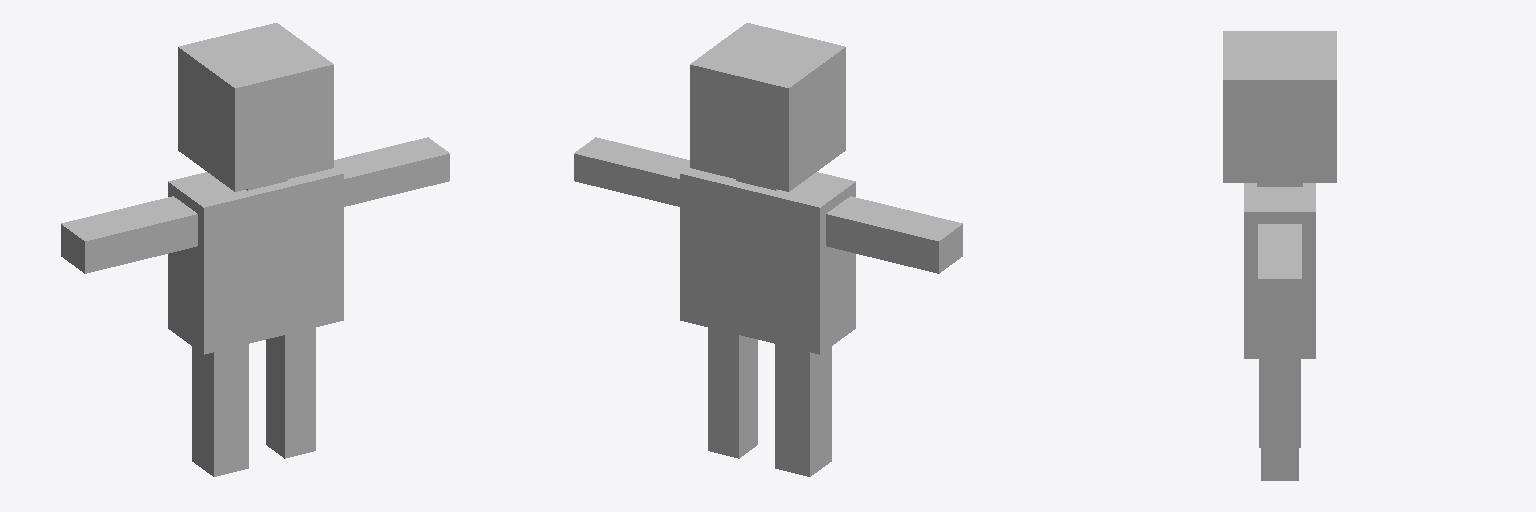
File: rdmguy.obj
The picture shows the model from 3 angles: view 1: azimuth 30°, elevation 25°; view 2: azimuth 150°, elevation 25°; view 3: azimuth 270°, elevation 25°; orthographic projection.
Parts seen in each view (by area): view 1: Cube; view 2: Cube; view 3: Cube.
Part boxes in pixels (bbox=[...]): Cube: bbox=[61, 23, 449, 476]; Cube: bbox=[574, 23, 962, 476]; Cube: bbox=[1223, 31, 1336, 480].
Size of the model in its own units: 1.98 by 2.08 by 0.5366.